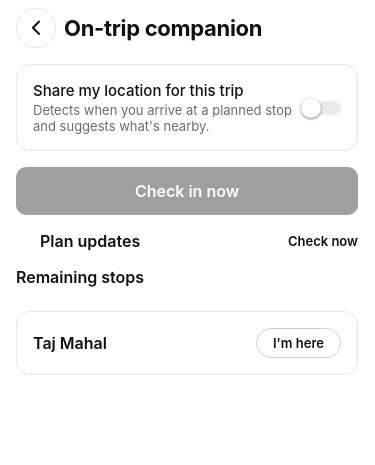
OnTripCompanionScreen › shows remaining stops and lets the traveller confirm arrival manually
Click the button with test id "manual-arrival-item-1". click: (70,343)
box: left=16, top=311, right=358, bottom=375
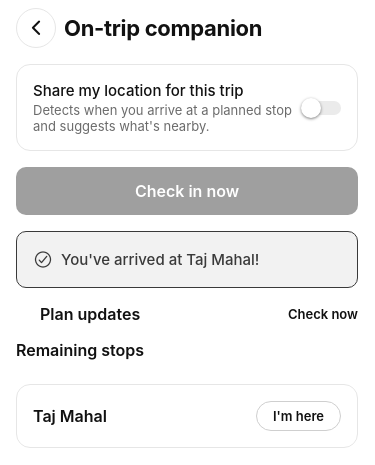
Check: the element with test id "arrival-banner" is shown, box left=16, top=231, right=358, bottom=288
